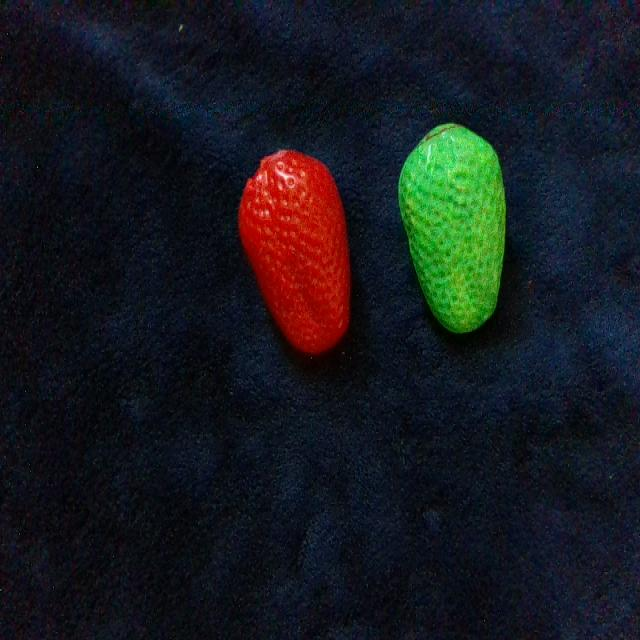grande_roja: (238, 151, 349, 353)
verde: (399, 125, 505, 332)
